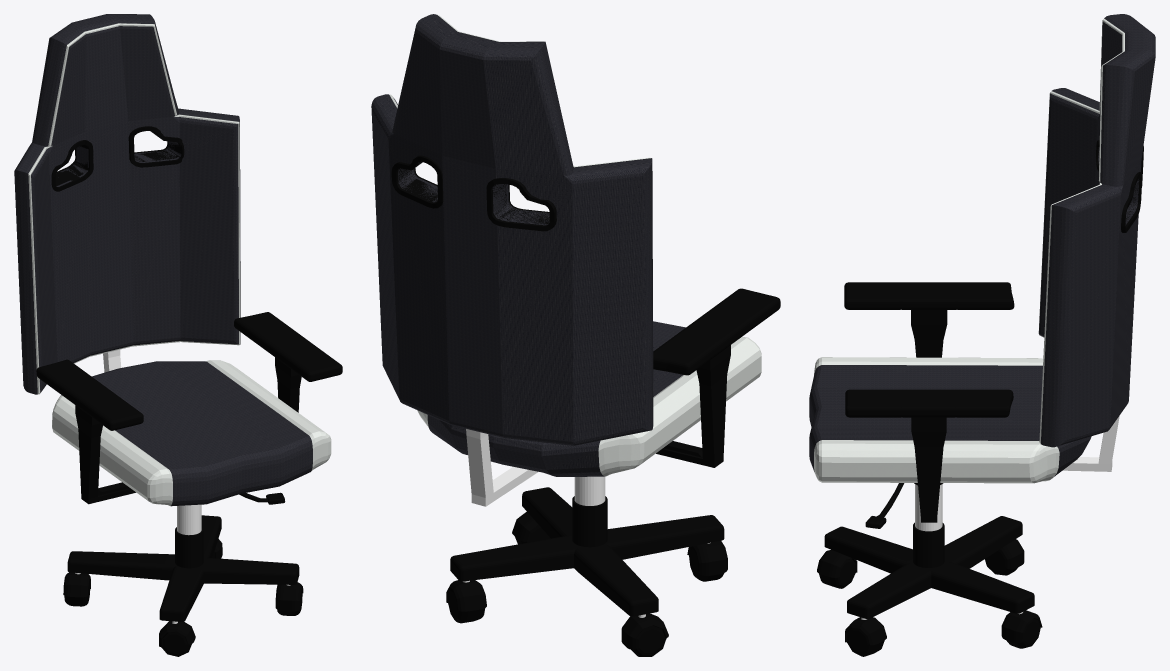
Rendered from gaming_chair.glb.
3 renders of one model, left to right at view 1: azimuth 30°, elevation 25°; view 2: azimuth 150°, elevation 25°; view 3: azimuth 270°, elevation 25°, orthographic. The views are drawn at different scales.
Parts seen in each view (by area): view 1: Cube_0; view 2: Cube_0; view 3: Cube_0.
Boxes of the visible parts, x1=… form: Cube_0: x1=14, y1=14, x2=342, y2=656; Cube_0: x1=371, y1=14, x2=780, y2=656; Cube_0: x1=809, y1=14, x2=1155, y2=656.
Size of the model in its own units: 2.96 by 6.28 by 3.43.
4 materials, 2 textured.
